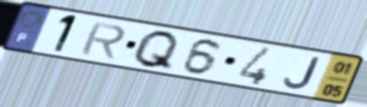1: (51, 13, 81, 56)
4: (235, 45, 272, 87)
6: (181, 37, 225, 76)
J: (281, 56, 322, 91)
Q: (130, 29, 182, 73)
R: (77, 21, 129, 61)
